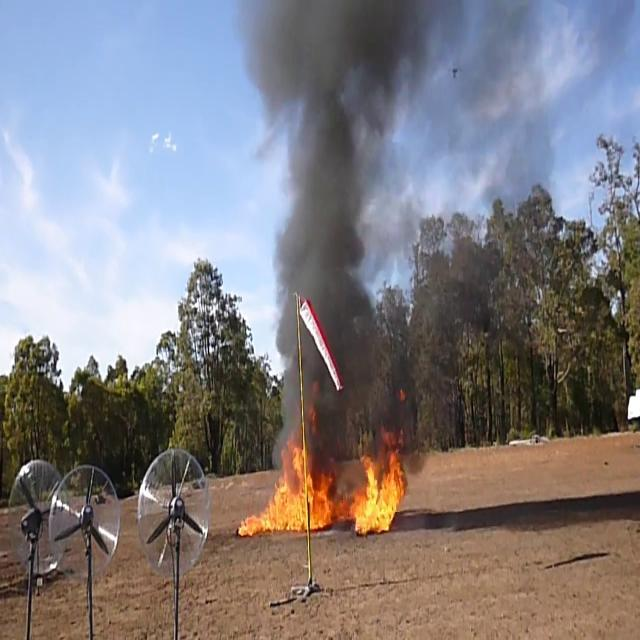Fire: (242, 435, 334, 537), (351, 442, 408, 536)
Smoke: (245, 1, 430, 424)
